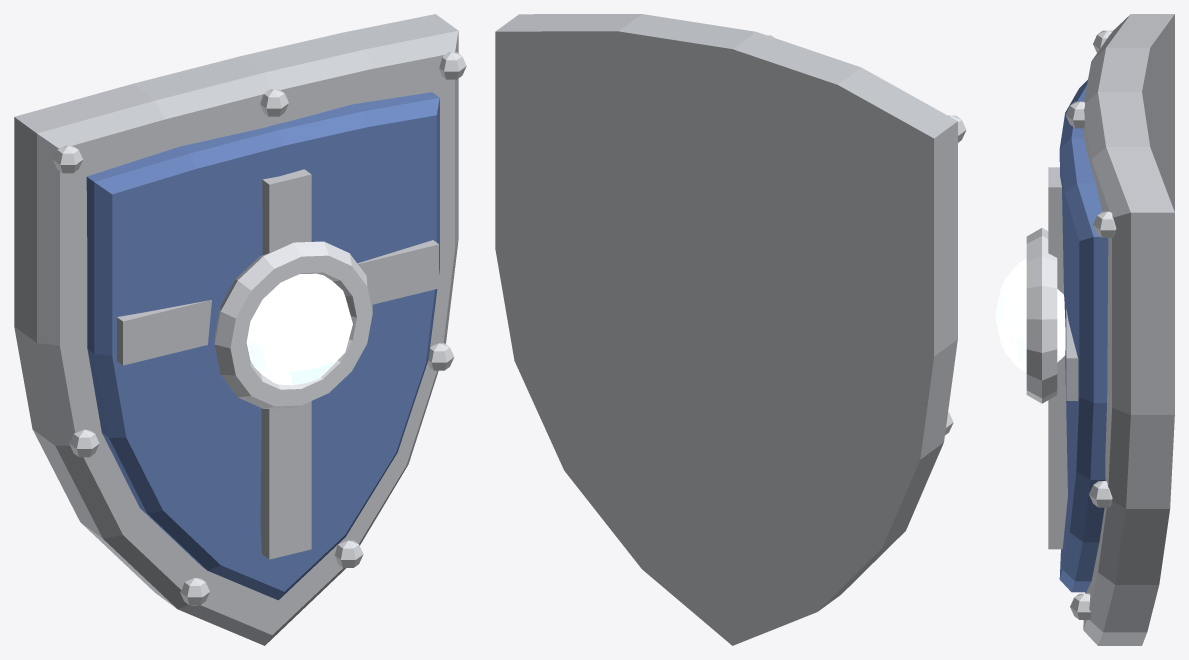
The model's file is item_shield.glb.
3 views of the same model, side by side, from view 1: azimuth 30°, elevation 25°; view 2: azimuth 150°, elevation 25°; view 3: azimuth 270°, elevation 25° (orthographic). The views are drawn at different scales.
Parts seen in each view (by area): view 1: item_shield; view 2: item_shield; view 3: item_shield.
Part boxes in pixels (left/top/right/bottom): item_shield: left=14, top=14, right=466, bottom=645; item_shield: left=495, top=14, right=966, bottom=645; item_shield: left=995, top=14, right=1174, bottom=645.
Size of the model in its own units: 0.8 by 1.04 by 0.306.
